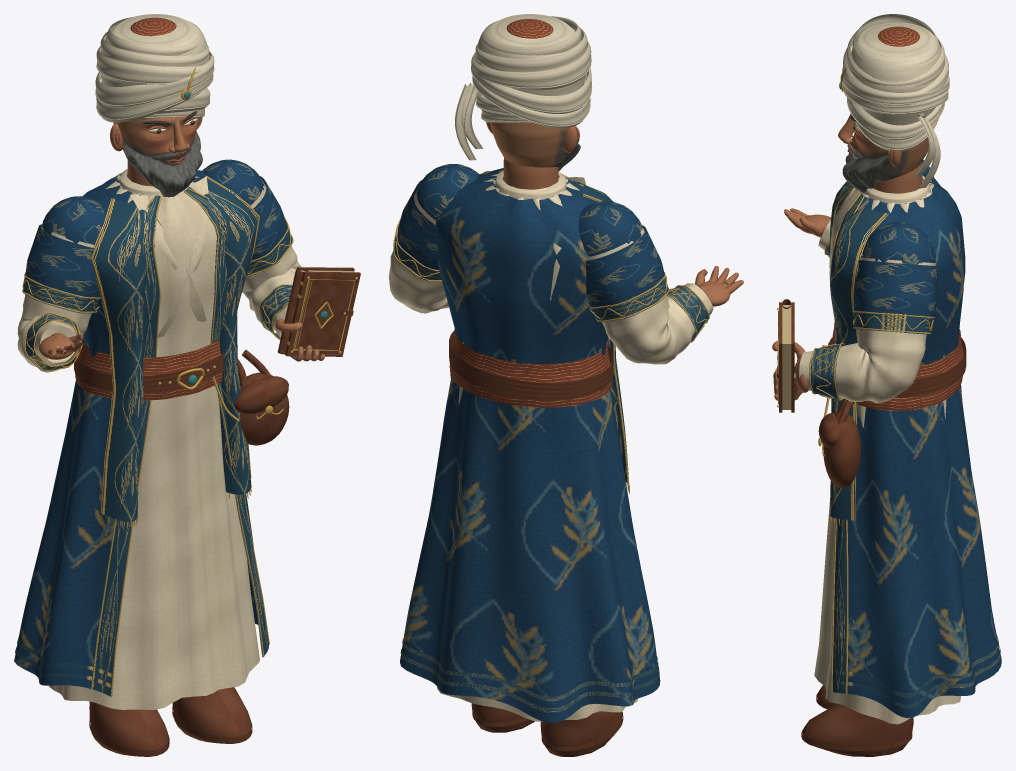
File: Merchant.glb
The picture shows the model from 3 angles, left to right: view 1: azimuth 30°, elevation 25°; view 2: azimuth 150°, elevation 25°; view 3: azimuth 270°, elevation 25°; orthographic projection. The views are drawn at different scales.
Visible parts, largest first — view 1: Chest, Head, OffArm, GestureArm, Legs, Jaw; view 2: Chest, Head, GestureArm, OffArm, Legs; view 3: Chest, OffArm, Head, Legs, Jaw, GestureArm.
Boxes of the visible parts, x1,y1,x2,y2 form: Chest: [14, 169, 289, 710]; Head: [95, 14, 214, 186]; OffArm: [202, 159, 360, 361]; GestureArm: [17, 196, 104, 372]; Legs: [89, 687, 252, 756]; Jaw: [122, 131, 202, 197]; Chest: [400, 168, 660, 722]; Head: [455, 14, 592, 189]; GestureArm: [578, 201, 743, 364]; OffArm: [389, 164, 479, 313]; Legs: [471, 703, 623, 756]; Chest: [814, 173, 1001, 724]; OffArm: [772, 222, 938, 412]; Head: [838, 14, 949, 193]; Legs: [801, 685, 913, 756]; Jaw: [842, 151, 891, 192]; GestureArm: [784, 159, 933, 257].
Size of the model in its own units: 0.8437 by 1.87 by 0.5593.
1 material, 1 textured.
